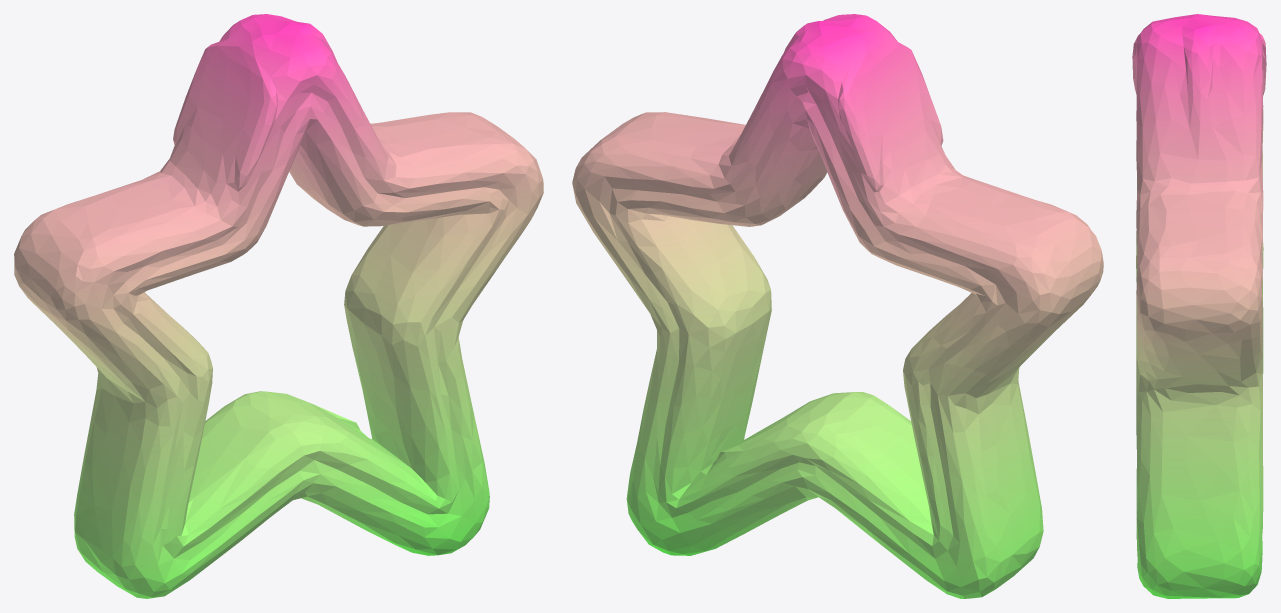
File: 48_cyb_laser_gradient_fish_scales_2880_2026_10_03_236c57.glb
The picture shows the model from 3 angles, left to right: view 1: azimuth 30°, elevation 25°; view 2: azimuth 150°, elevation 25°; view 3: azimuth 270°, elevation 25°; orthographic projection. The views are drawn at different scales.
Visible parts, largest first — view 1: geometry_0; view 2: geometry_0; view 3: geometry_0.
Part boxes in pixels (x1,y1,x2,y2): geometry_0: [14, 14, 543, 598]; geometry_0: [572, 14, 1103, 598]; geometry_0: [1132, 14, 1266, 598].
Size of the model in its own units: 0.9347 by 1 by 0.2384.
